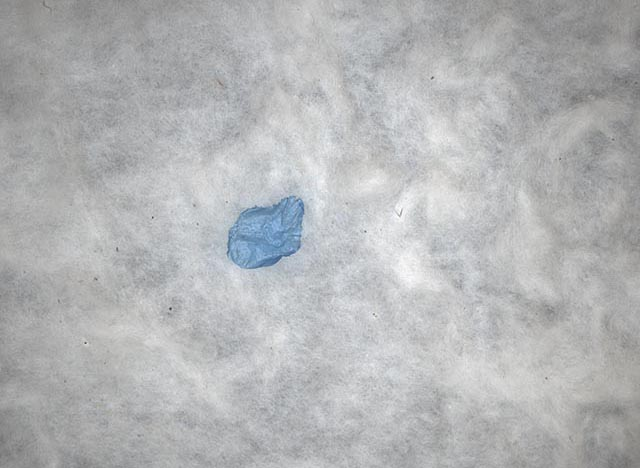plastic film: (226, 196, 307, 269)
